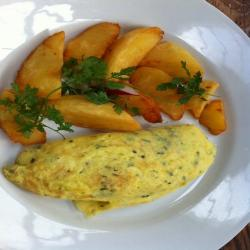fries: (2, 19, 233, 141)
omelette: (8, 124, 220, 216)
